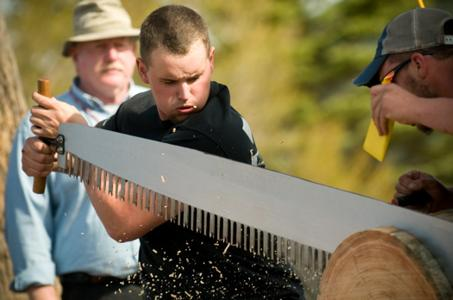person: (21, 3, 309, 300)
